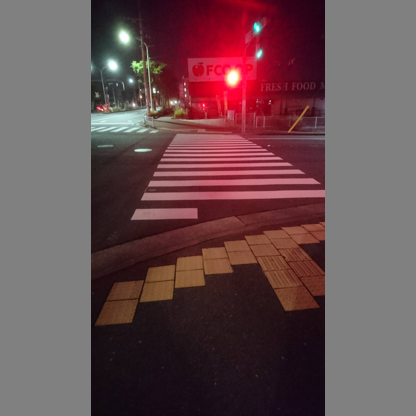brailleblock: (97, 218, 323, 326)
crosswalk: (130, 132, 324, 224)
